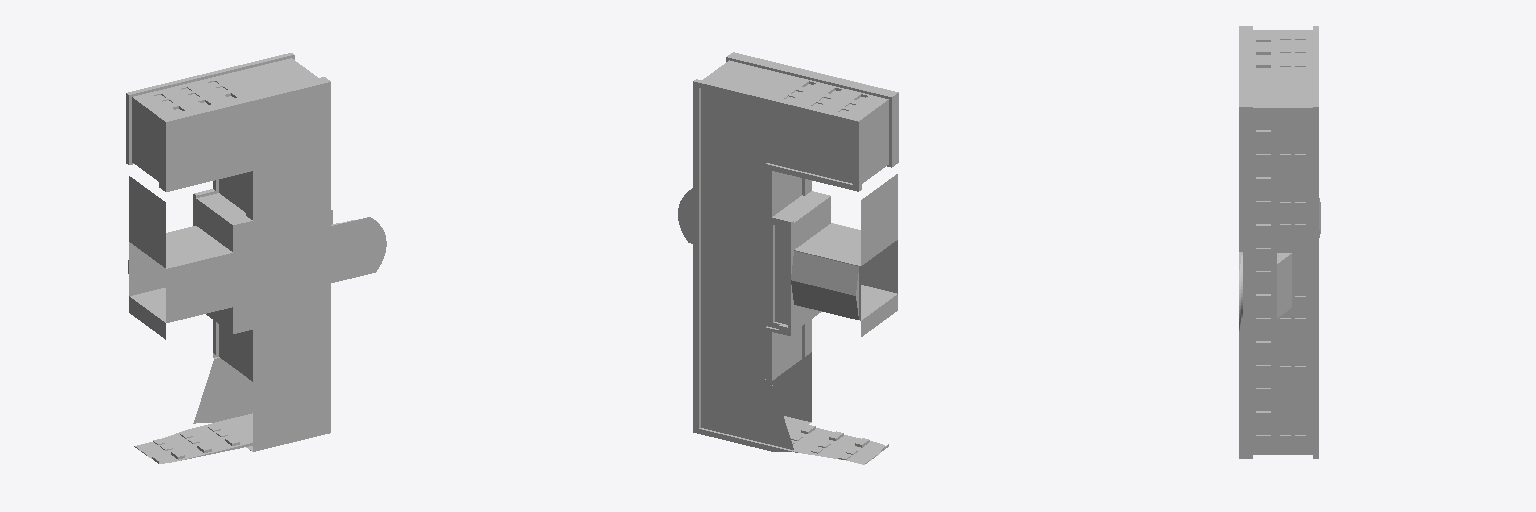
Rendered from UM jednatrzecia.obj.
The picture shows the model from 3 angles: view 1: azimuth 30°, elevation 25°; view 2: azimuth 150°, elevation 25°; view 3: azimuth 270°, elevation 25°; orthographic projection.
Visible parts, largest first — view 1: UM_RADOM_CAŁY; view 2: UM_RADOM_CAŁY; view 3: UM_RADOM_CAŁY.
Boxes of the visible parts, <box> form: UM_RADOM_CAŁY: <box>126,53,386,463</box>; UM_RADOM_CAŁY: <box>678,52,898,464</box>; UM_RADOM_CAŁY: <box>1239,26,1320,458</box>.
Size of the model in its own units: 0.0131 by 0.02 by 0.0042.